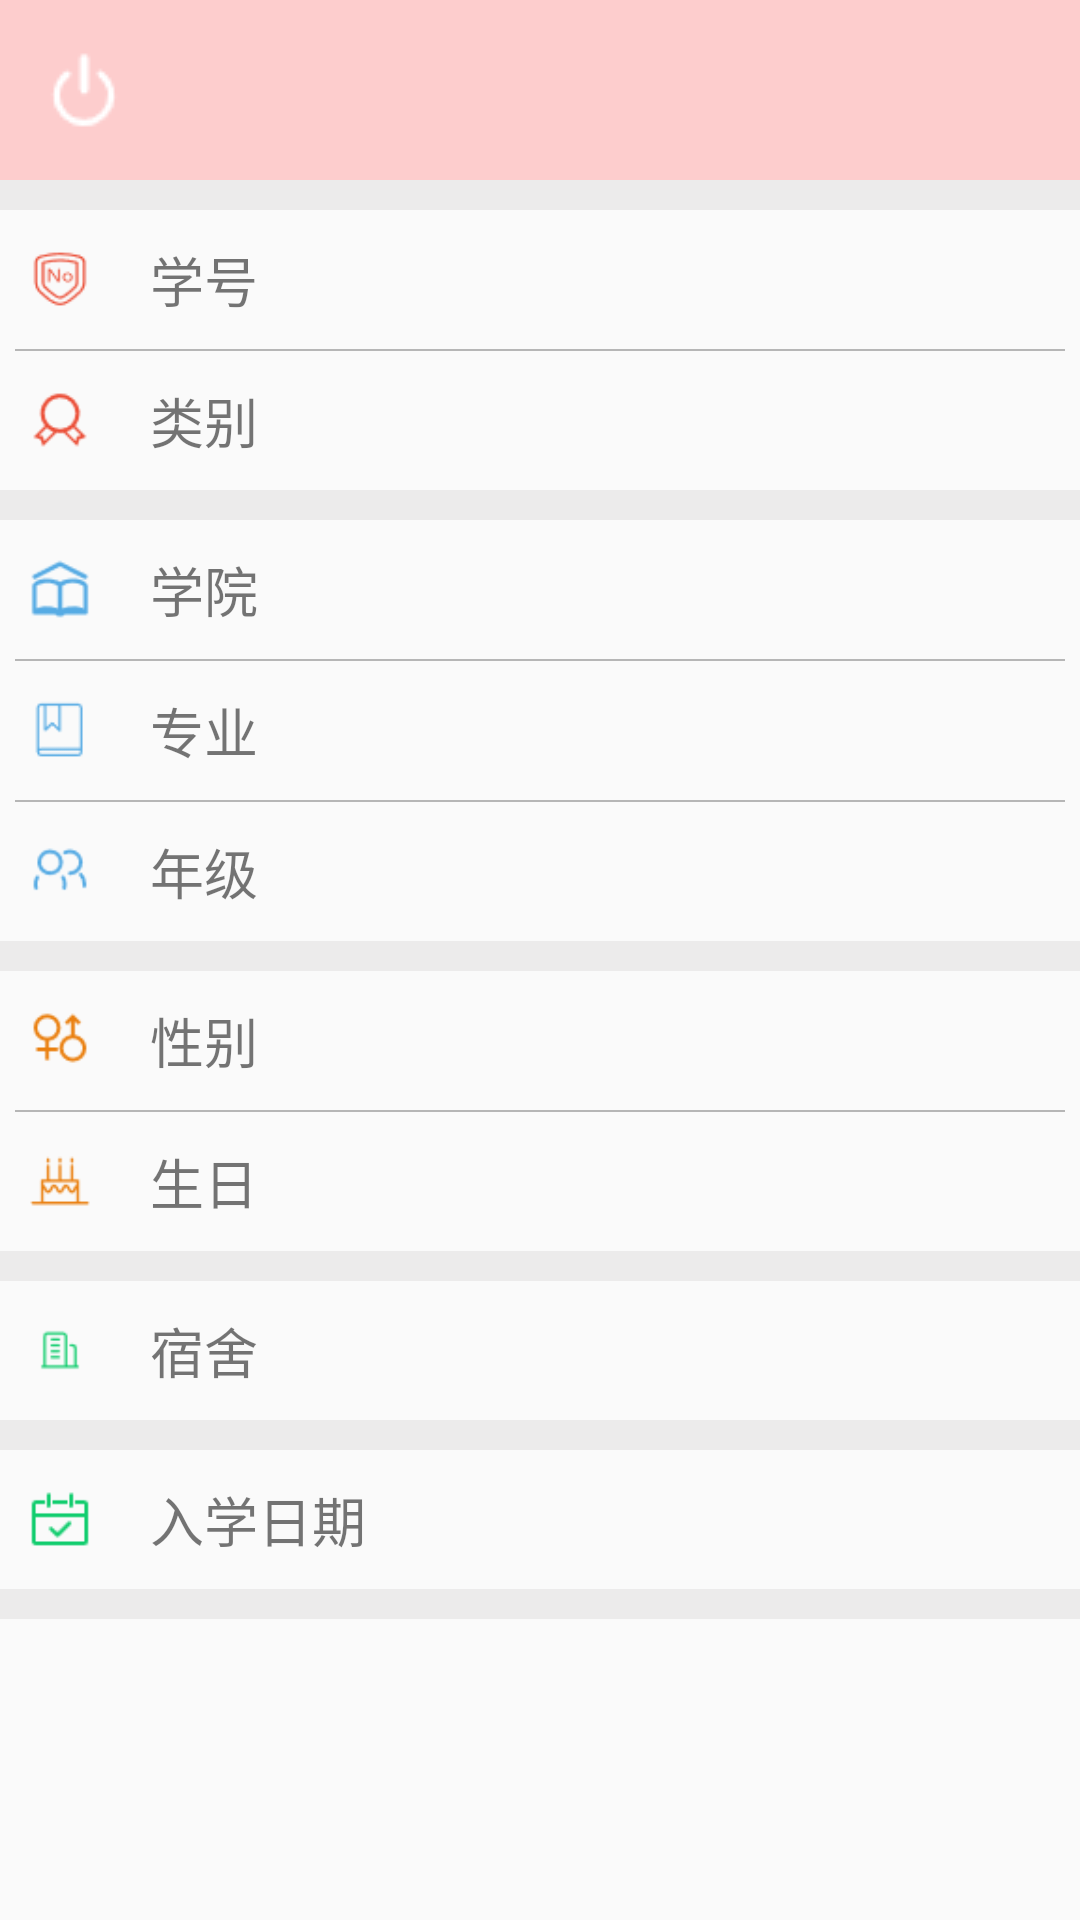

Named icons in this screenshot (1080*1920) and their centers, (x=x, y=y):
birthday: (x=60, y=1181)
college: (x=60, y=589)
dormitory: (x=60, y=1350)
grade: (x=60, y=869)
join day: (x=60, y=1519)
major: (x=59, y=730)
sex: (x=60, y=1038)
type: (x=60, y=420)
